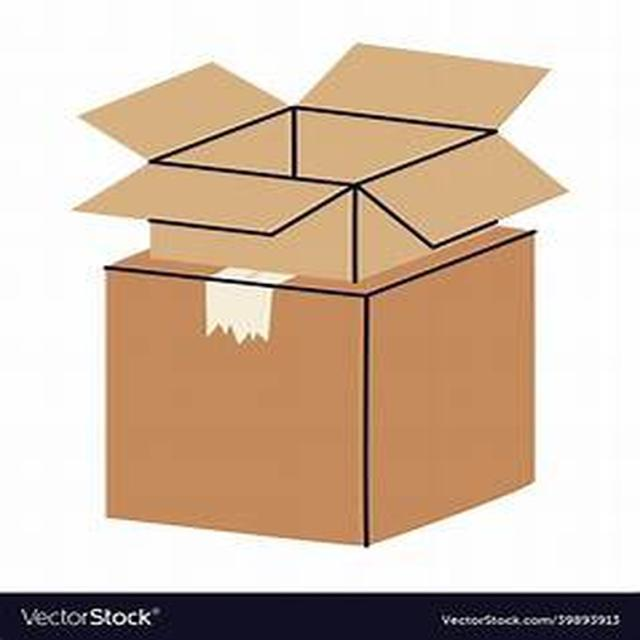box: (94, 250, 560, 552), (62, 60, 549, 272)
